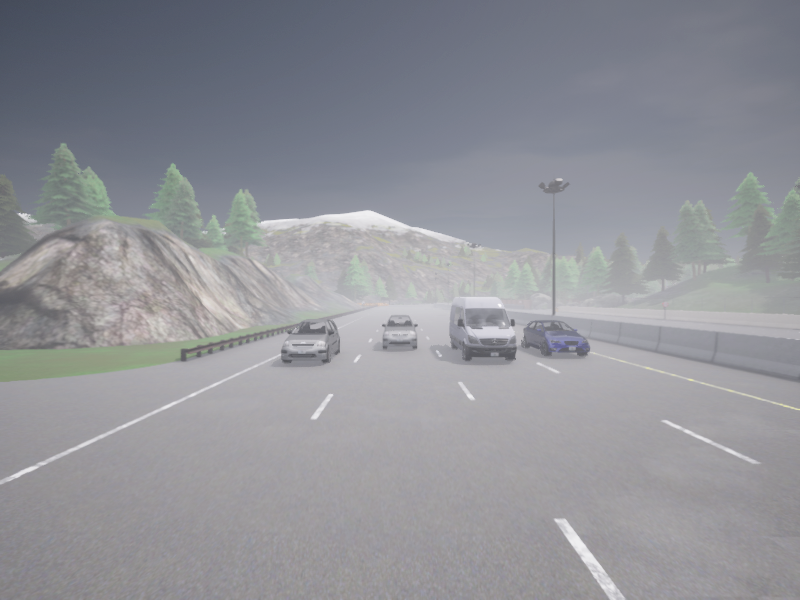vehicle: (449, 297, 516, 360), (281, 319, 340, 363), (522, 320, 589, 356), (381, 315, 417, 349)
